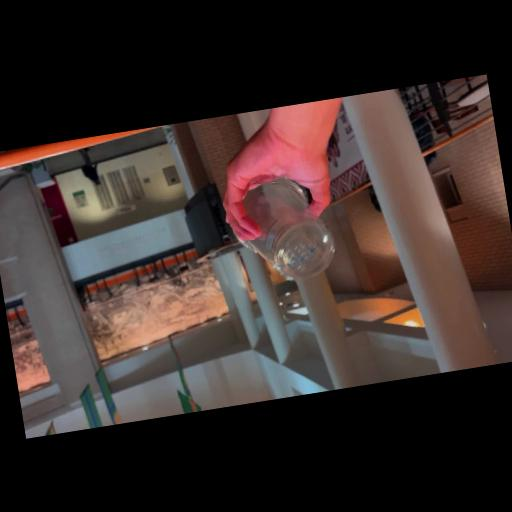lp_plastic_cup: (230, 172, 336, 285)
